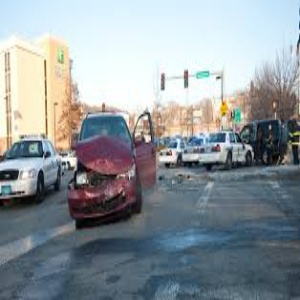bonnet: (72, 140, 133, 176)
bumper: (62, 181, 139, 223)
